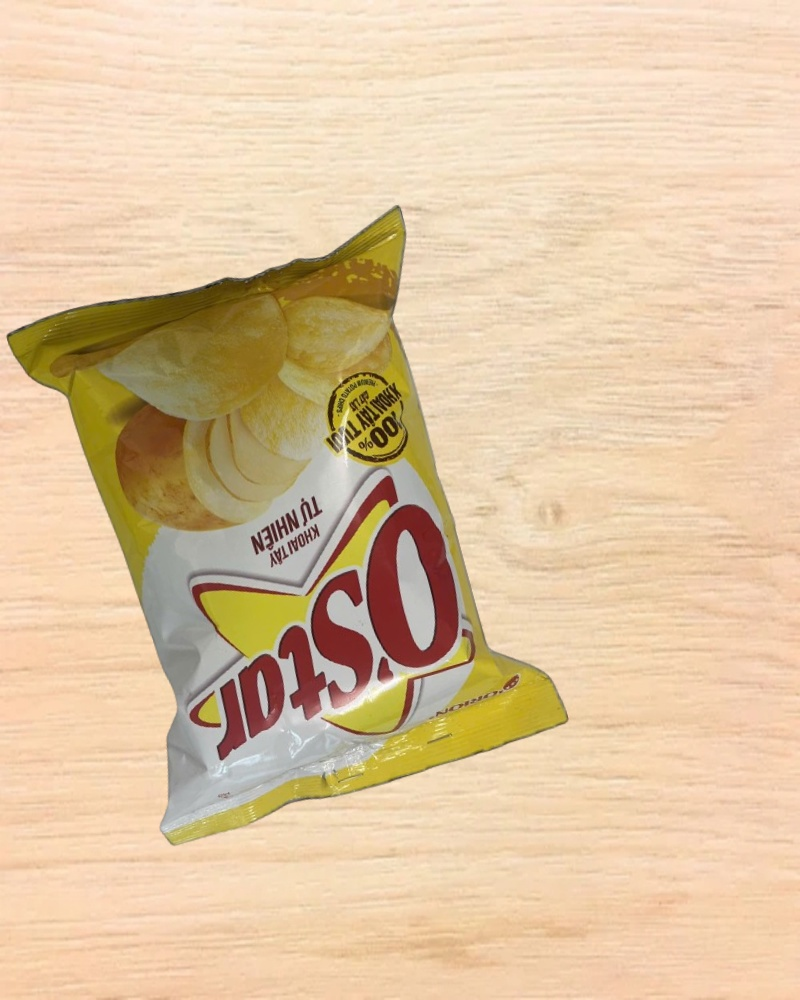Snack cua: (7, 204, 570, 846)
